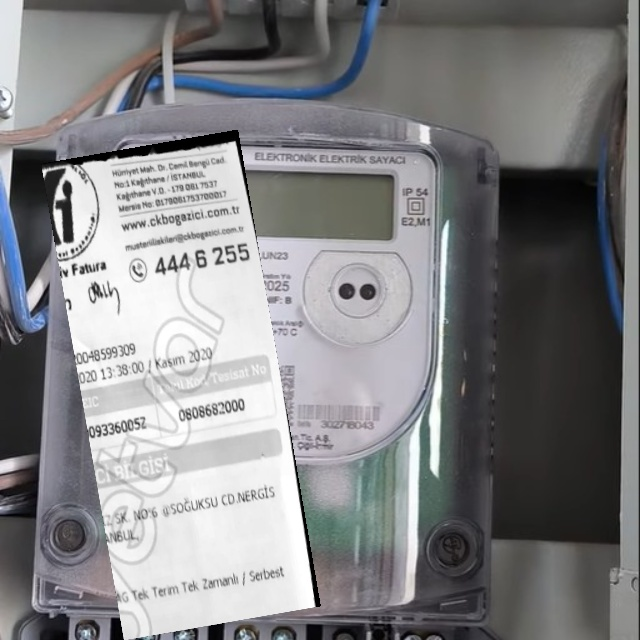electricity-bill: (40, 129, 320, 639)
